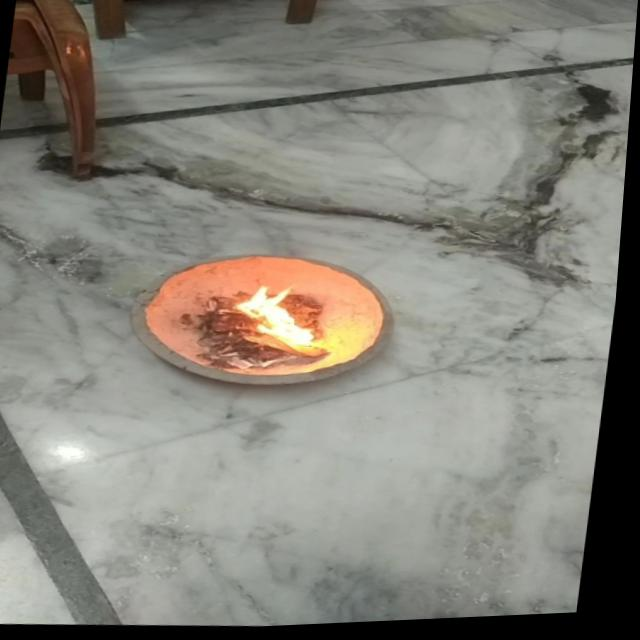fire: (230, 282, 343, 359)
